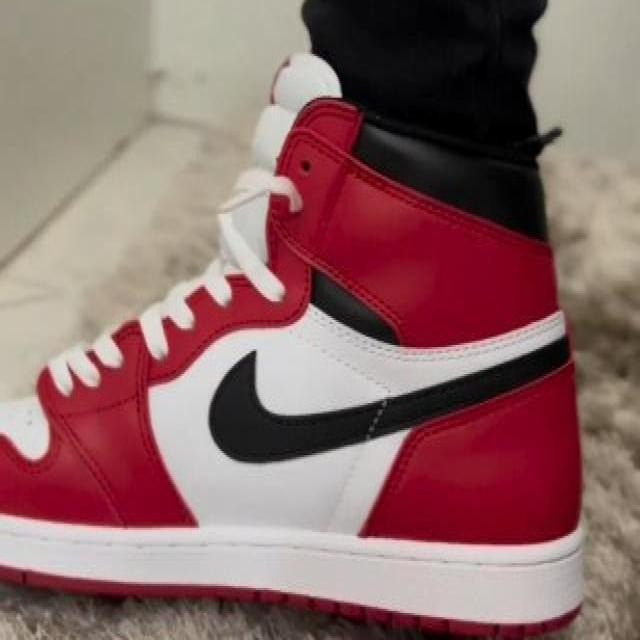J1_InsoleChar: (1, 60, 588, 637)
J1_ShoeShape: (299, 0, 553, 152)
J1_StitchPattern: (208, 303, 574, 465), (45, 168, 301, 397), (303, 299, 571, 397), (48, 267, 238, 393), (305, 303, 399, 442), (326, 390, 394, 535), (137, 269, 235, 359), (46, 331, 126, 396), (361, 393, 392, 443)
